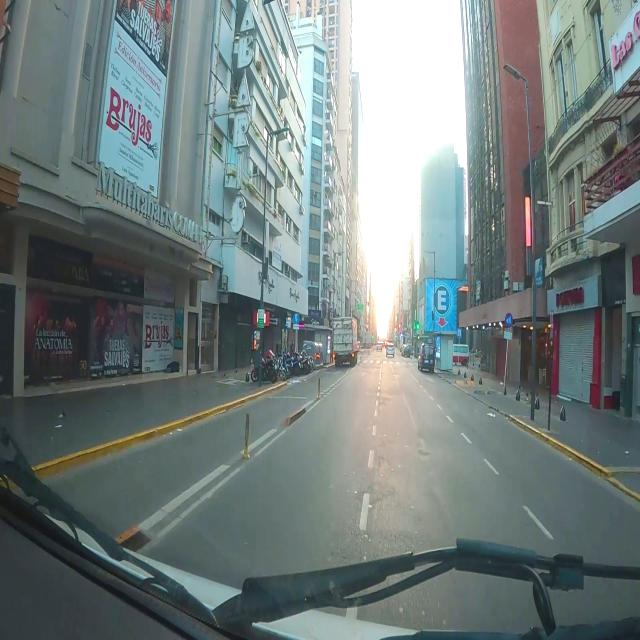car: (418, 344, 435, 372), (386, 344, 394, 357), (402, 345, 410, 357), (377, 342, 382, 351)
